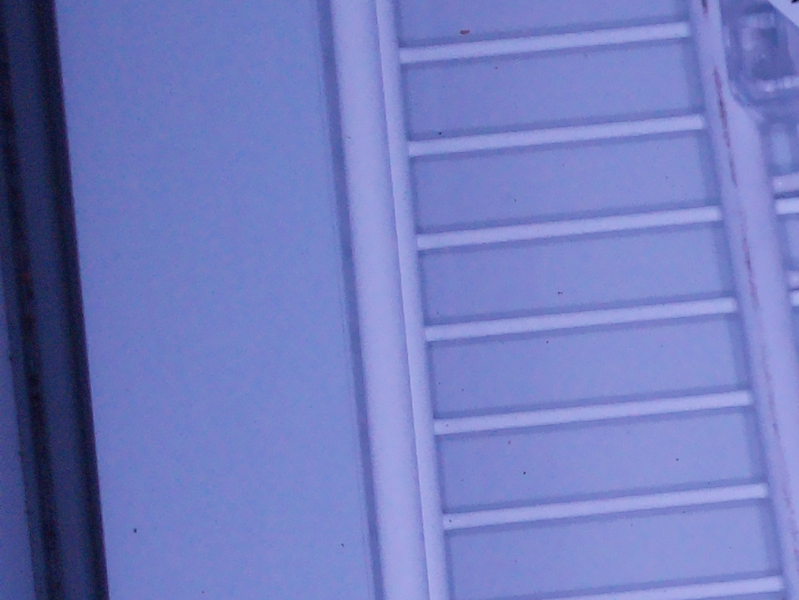plate: (720, 1, 799, 112)
